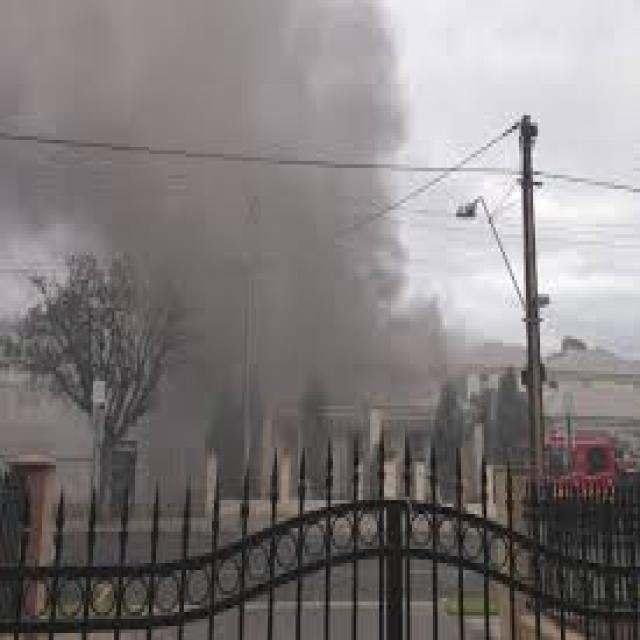Smoke: (0, 0, 486, 509)
